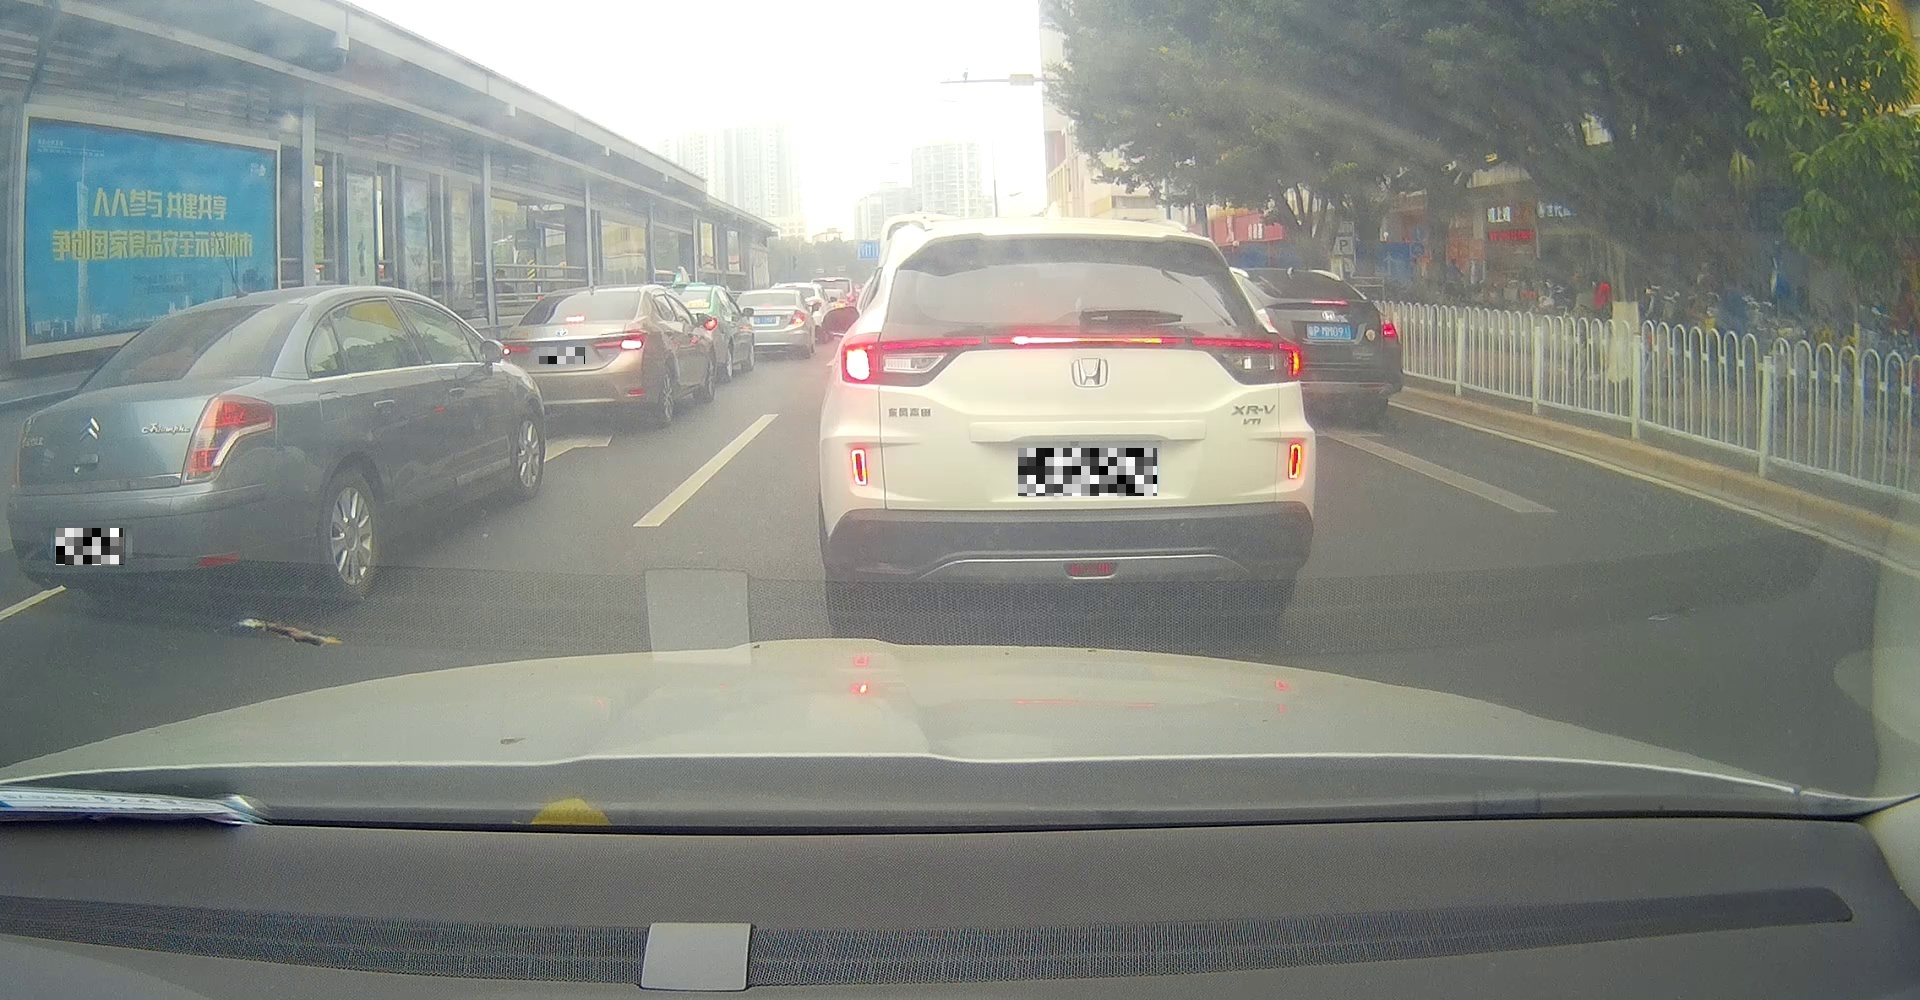L_light: (842, 336, 982, 387), (11, 431, 25, 489), (504, 345, 533, 357)
R_light: (179, 393, 276, 486), (1192, 336, 1304, 385), (596, 335, 643, 350)
T_light: (1010, 335, 1161, 346), (564, 315, 585, 324), (215, 308, 243, 313)
day-brake: (819, 214, 1316, 640), (503, 284, 653, 430)
day-no: (6, 286, 310, 605)
plate_1: (56, 528, 123, 565)
plate_2: (538, 346, 585, 364)
plate_3: (1018, 448, 1157, 496)
